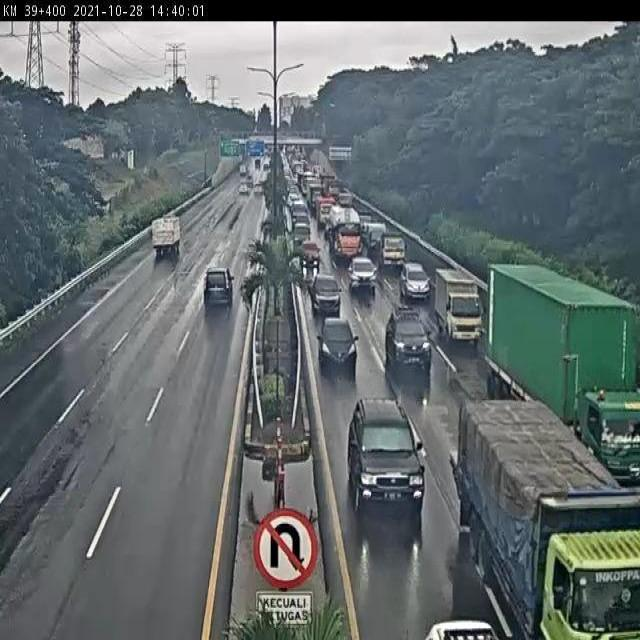car: (346, 391, 427, 509), (383, 303, 434, 368), (317, 316, 358, 369), (310, 272, 342, 316), (398, 256, 430, 299), (348, 255, 381, 295), (202, 266, 235, 306), (298, 239, 322, 269)
truck: (488, 259, 640, 491), (436, 266, 483, 346), (328, 204, 362, 257), (151, 213, 183, 256), (378, 228, 409, 268)
